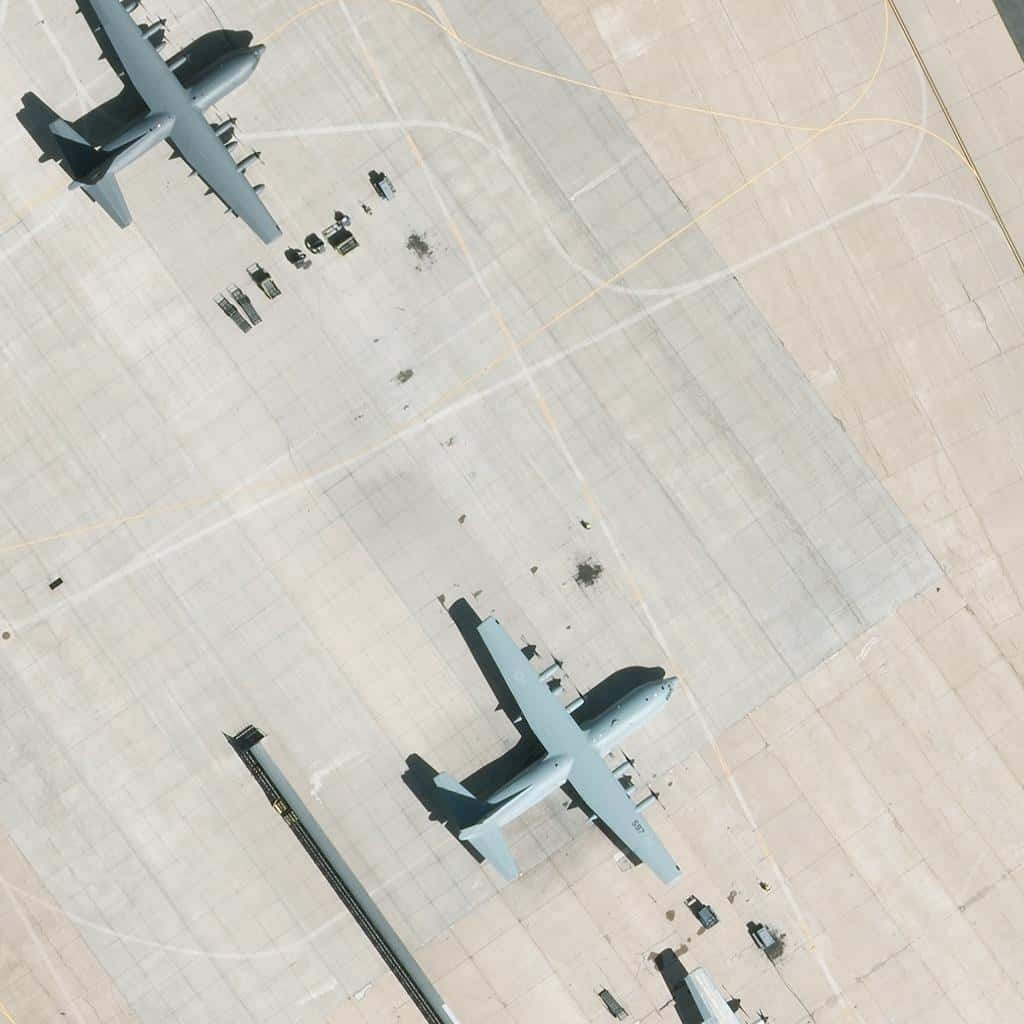plane: (434, 620, 709, 885), (24, 1, 287, 250)
